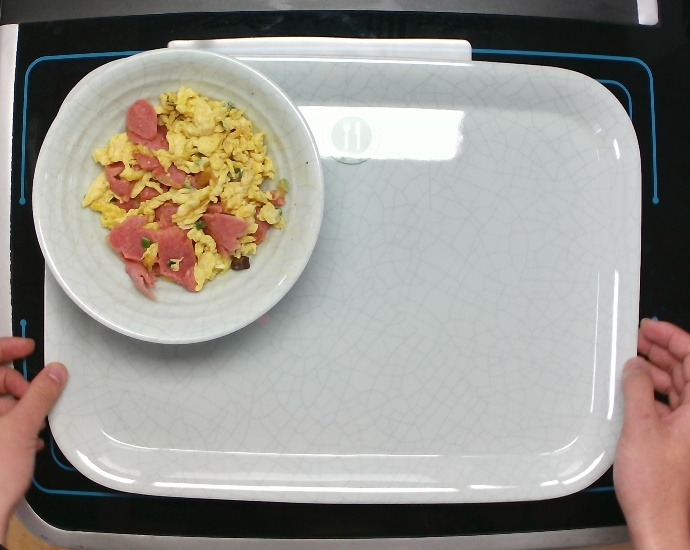JYsf-Xiao_Tang_Wan: (22, 43, 336, 357)
